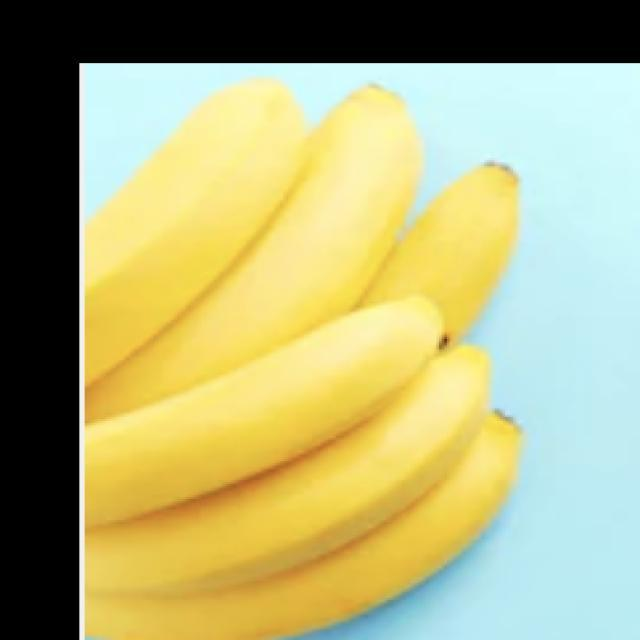Banana: (83, 77, 523, 639)
